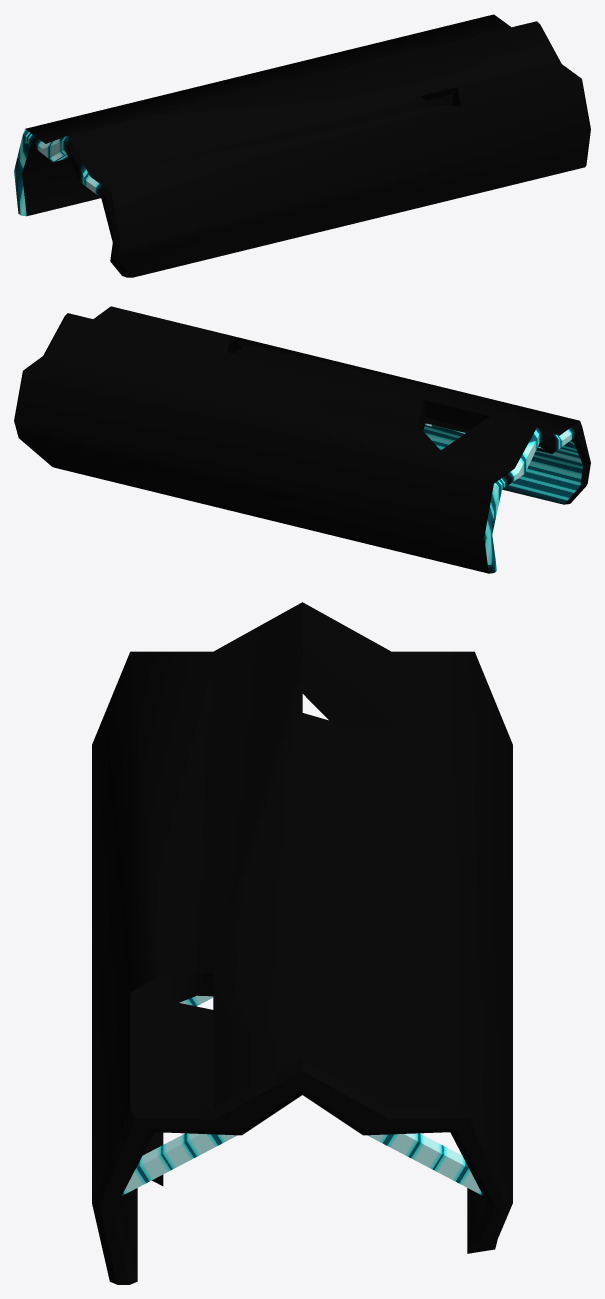
File: Prop_Tunnel_Unwrapped.fbx
3 renders of one model, top to bottom at view 1: azimuth 30°, elevation 25°; view 2: azimuth 150°, elevation 25°; view 3: azimuth 270°, elevation 25°, orthographic. The views are drawn at different scales.
Parts seen in each view (by area): view 1: PROP_MESH_Tunnel; view 2: PROP_MESH_Tunnel; view 3: PROP_MESH_Tunnel.
Part boxes in pixels (box(x1,y1,x2,y2)): PROP_MESH_Tunnel: box(14, 14, 590, 277); PROP_MESH_Tunnel: box(14, 306, 590, 573); PROP_MESH_Tunnel: box(92, 602, 512, 1284).
Bounding box in the file's own units: 4624 × 1081 × 1773.
